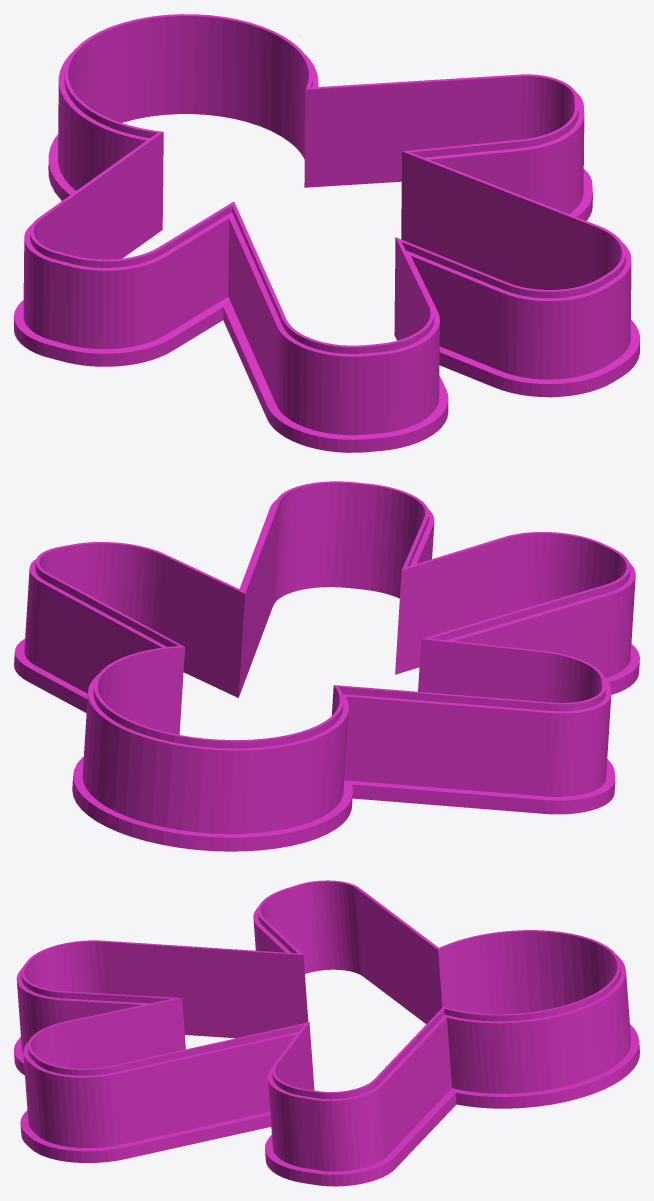
The model's file is cookieman.glb.
3 views of the same model, one above another, from view 1: azimuth 30°, elevation 25°; view 2: azimuth 150°, elevation 25°; view 3: azimuth 270°, elevation 25° (orthographic). The views are drawn at different scales.
Parts seen in each view (by area): view 1: Uploads Files 716744 00032+Prynichniy Chelovek; view 2: Uploads Files 716744 00032+Prynichniy Chelovek; view 3: Uploads Files 716744 00032+Prynichniy Chelovek.
Boxes of the visible parts, left/top/right/bottom form: Uploads Files 716744 00032+Prynichniy Chelovek: left=14, top=14, right=639, bottom=452; Uploads Files 716744 00032+Prynichniy Chelovek: left=14, top=481, right=639, bottom=851; Uploads Files 716744 00032+Prynichniy Chelovek: left=14, top=880, right=639, bottom=1186.
Bounding box in the file's own units: 7.4 × 1.84 × 8.22.
